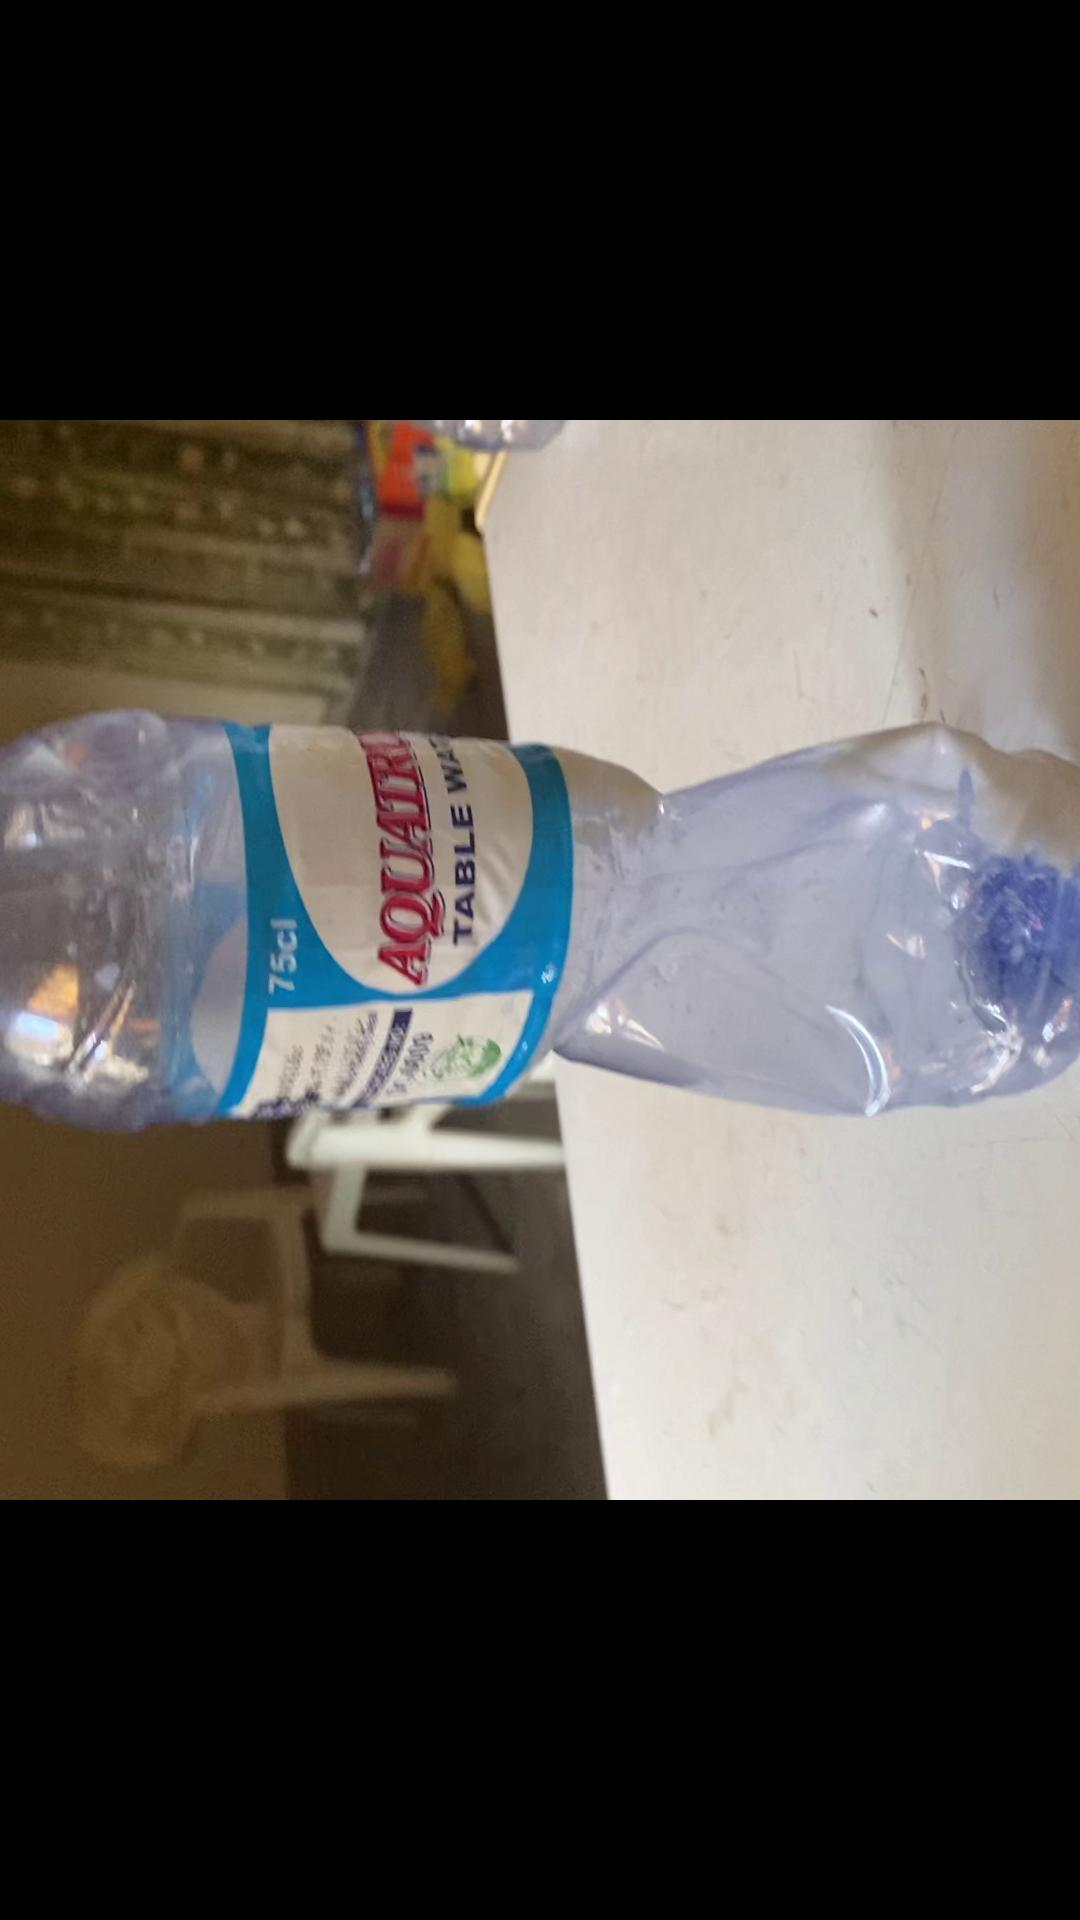crumbled: (0, 699, 1080, 1139)
label: (233, 740, 567, 1109)
